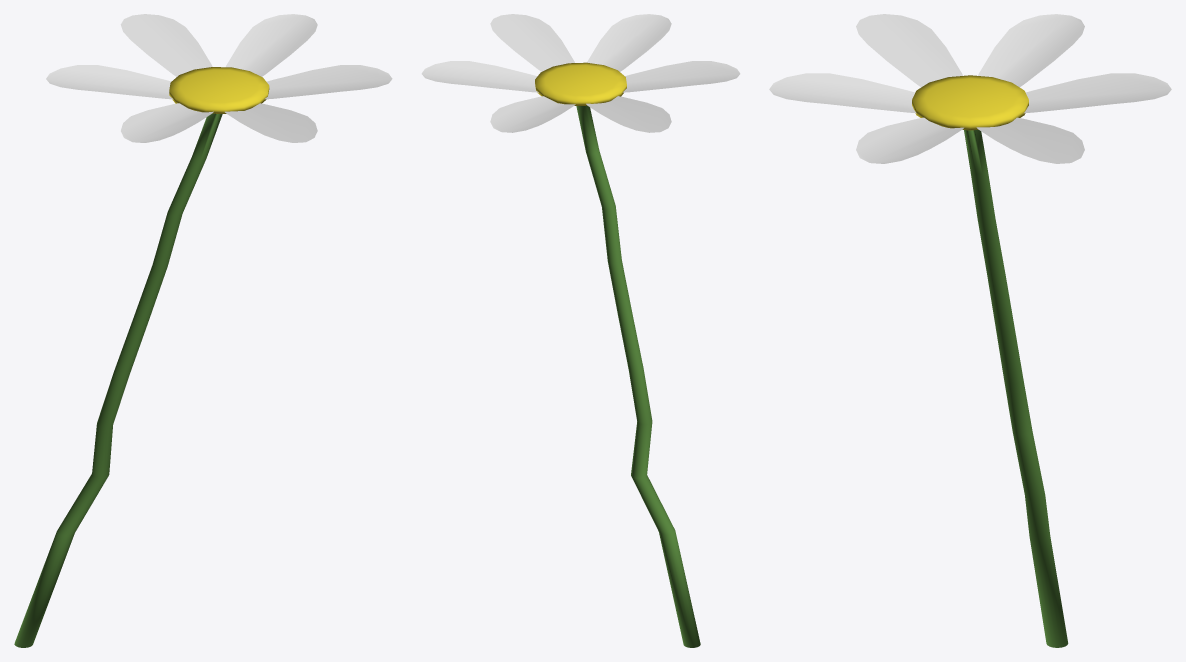
The model's file is flowers.glb.
3 views of the same model, side by side, from view 1: azimuth 30°, elevation 25°; view 2: azimuth 150°, elevation 25°; view 3: azimuth 270°, elevation 25° (orthographic). The views are drawn at different scales.
Parts seen in each view (by area): view 1: Circle; view 2: Circle; view 3: Circle.
Boxes of the visible parts, x1=… form: Circle: x1=14, y1=14, x2=392, y2=647; Circle: x1=421, y1=14, x2=740, y2=647; Circle: x1=769, y1=14, x2=1171, y2=647.
Size of what is drawn, in the model's own units: 0.6106 by 1.09 by 0.614.
